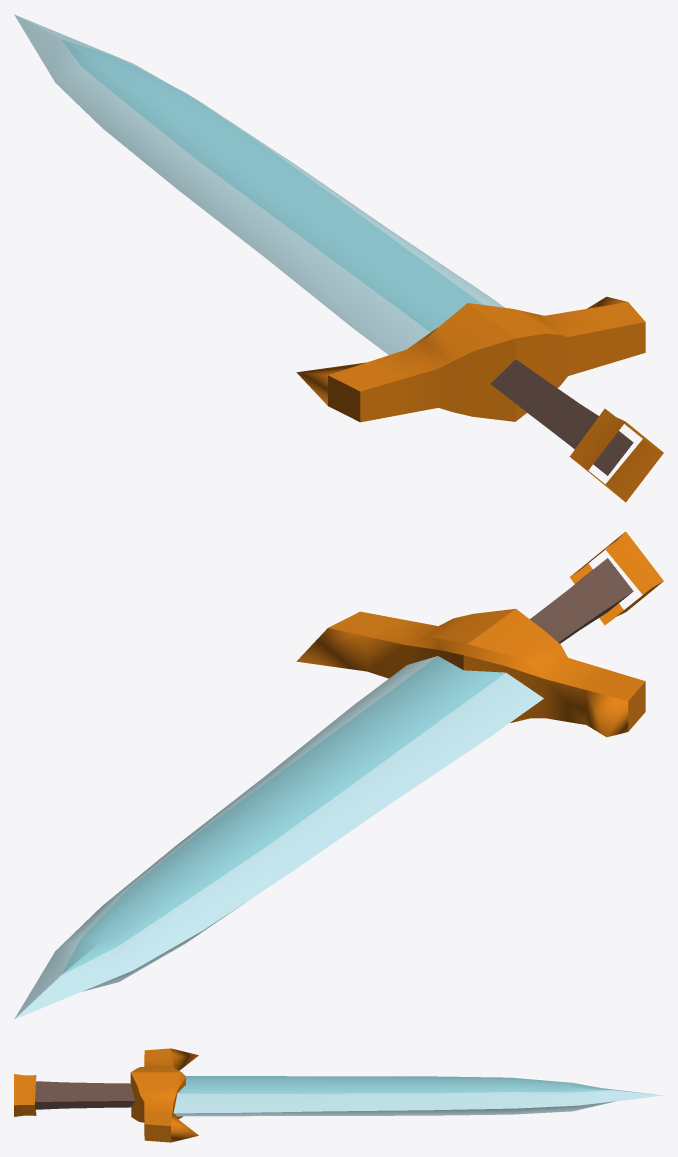
File: Sword_basic_mesh.fbx
The picture shows the model from 3 angles, top to bottom: view 1: azimuth 30°, elevation 25°; view 2: azimuth 150°, elevation 25°; view 3: azimuth 270°, elevation 25°; orthographic projection. The views are drawn at different scales.
Visible parts, largest first — view 1: Sword; view 2: Sword; view 3: Sword.
Part boxes in pixels (x1,y1,x2,y2): Sword: [14, 14, 663, 502]; Sword: [14, 531, 663, 1019]; Sword: [14, 1048, 663, 1142].
Size of the model in its own units: 27.05 by 92.39 by 7.
